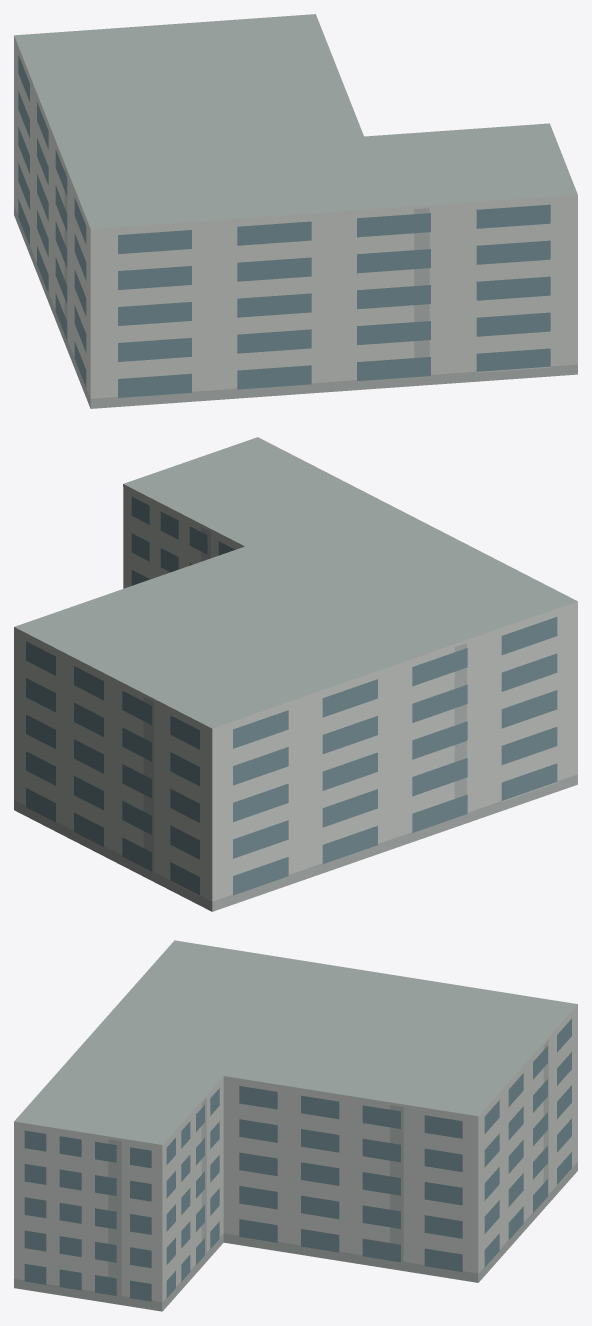
File: residential-9c9f78c9-b8e1-460a-ae54-1b6e7405ad09.glb
3 views of the same model, one above another, from view 1: azimuth 30°, elevation 25°; view 2: azimuth 150°, elevation 25°; view 3: azimuth 270°, elevation 25° (orthographic). The views are drawn at different scales.
Visible parts, largest first — view 1: residential-9c9f78c9-b8e1-460a-ae54-1b6e7405ad09.tmp; view 2: residential-9c9f78c9-b8e1-460a-ae54-1b6e7405ad09.tmp; view 3: residential-9c9f78c9-b8e1-460a-ae54-1b6e7405ad09.tmp.
Boxes of the visible parts, bbox=[...] form: residential-9c9f78c9-b8e1-460a-ae54-1b6e7405ad09.tmp: bbox=[14, 14, 577, 408]; residential-9c9f78c9-b8e1-460a-ae54-1b6e7405ad09.tmp: bbox=[14, 437, 577, 911]; residential-9c9f78c9-b8e1-460a-ae54-1b6e7405ad09.tmp: bbox=[14, 940, 577, 1311].
Bounding box in the file's own units: 40.19 × 15.25 × 46.79.
